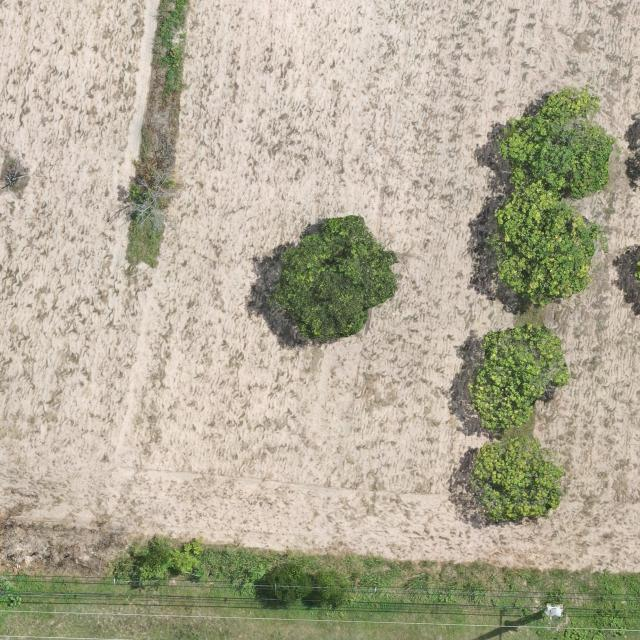Tree: (269, 212, 402, 347), (492, 180, 598, 306), (501, 86, 616, 200), (472, 321, 571, 431), (463, 430, 567, 524), (261, 562, 314, 606), (314, 570, 355, 609)
